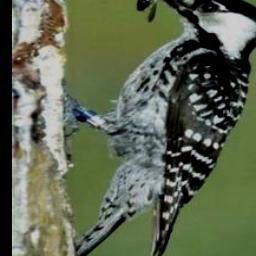Woodpecker: (60, 0, 256, 256)
